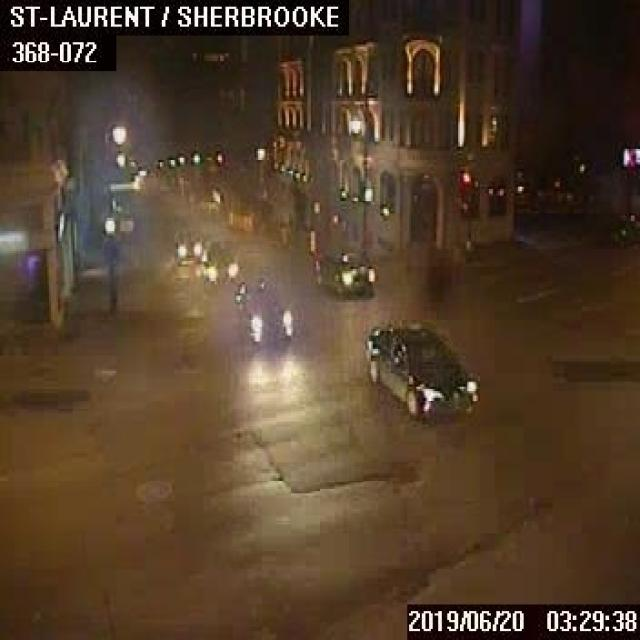construction: (306, 228, 314, 255)
vehicle: (360, 322, 476, 416), (234, 277, 292, 341), (314, 250, 374, 293), (201, 238, 238, 282), (594, 212, 638, 246), (172, 228, 202, 264)
